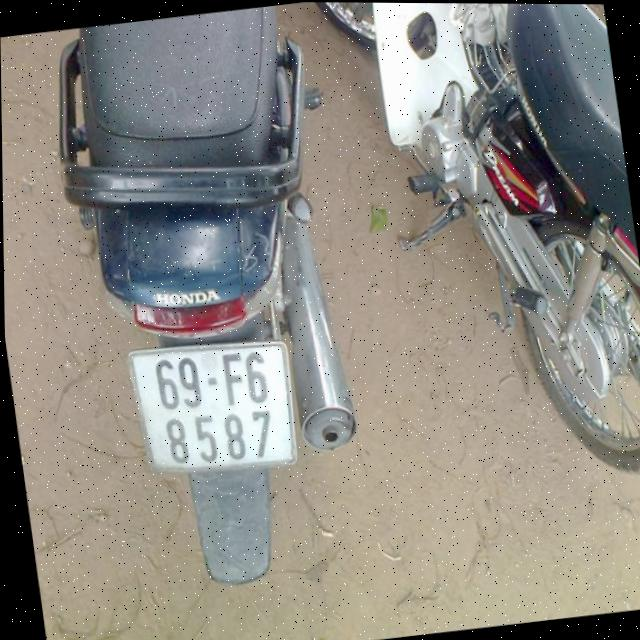motorcycle: (36, 0, 389, 616), (317, 2, 640, 528)
plate: (122, 330, 305, 485)
